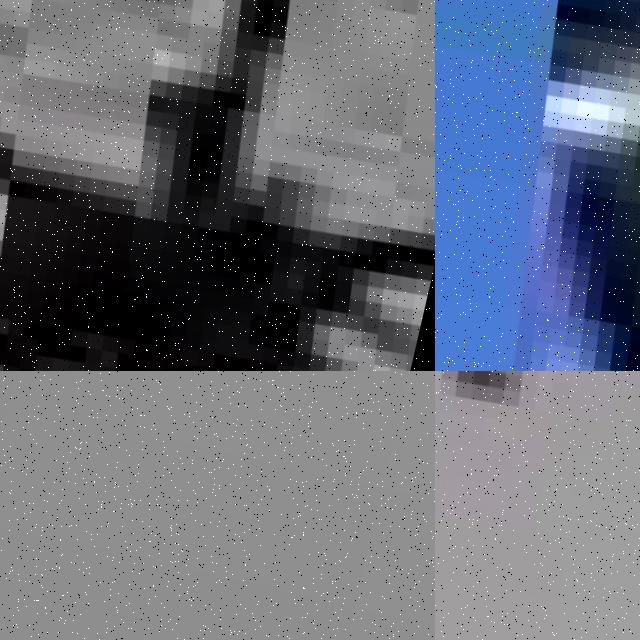0: (0, 0, 435, 371), (435, 0, 640, 371)
drone: (435, 371, 640, 640)
